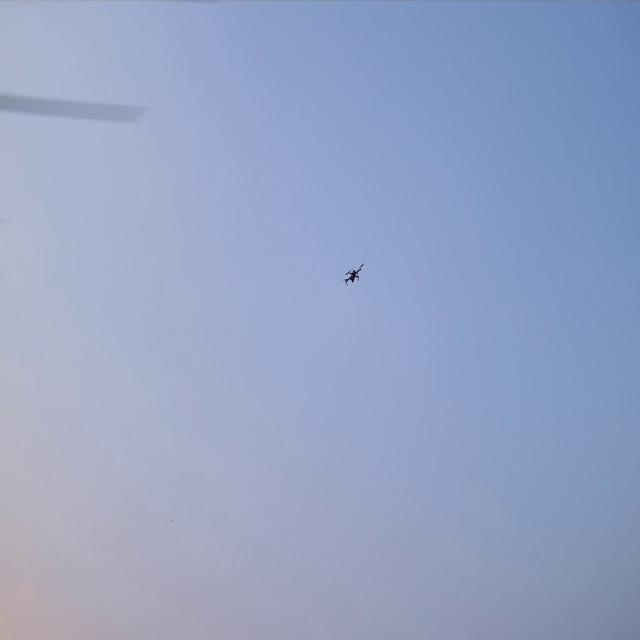UAV: (342, 261, 366, 287)
